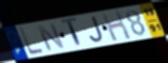8: (125, 8, 147, 37)
H: (100, 9, 134, 43)
J: (89, 15, 105, 43)
L: (18, 26, 46, 57)
N: (35, 23, 67, 53)
T: (59, 16, 84, 49)
